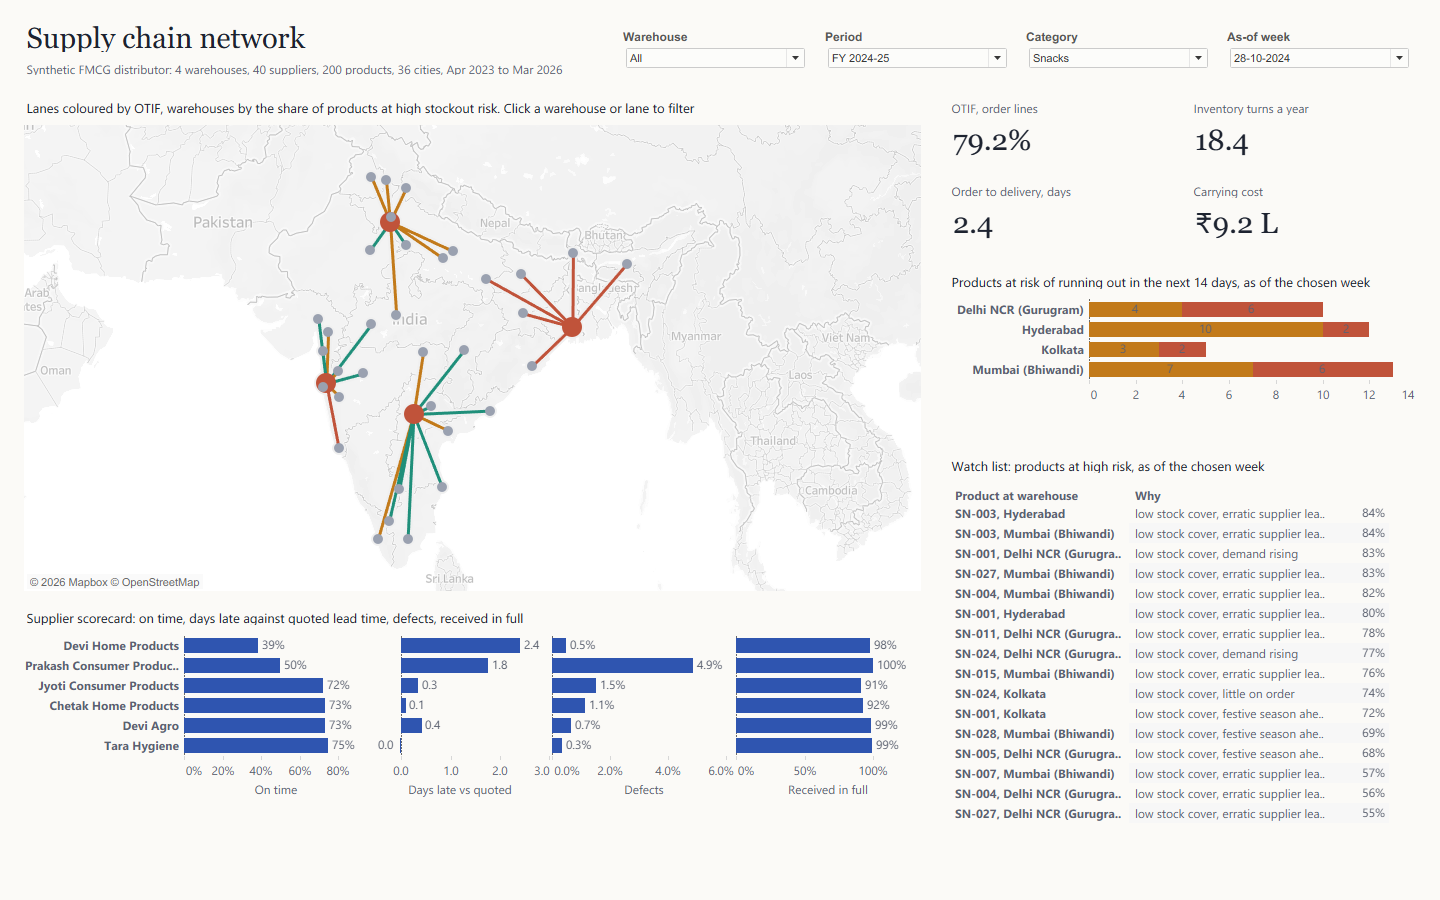

The dashboard page shown, as its layout file describes it:
{"tool":"tableau","page":{"name":"Network","canvas":[1440,900],"ordinal":0},"visuals":[{"type":"text","box":[24,14,560,36]},{"type":"parameter","param":"[Parameters].[Parameter 1]","box":[620,20,192,56]},{"type":"parameter","param":"[Parameters].[Parameter 2]","box":[820,20,192,56]},{"type":"parameter","param":"[Parameters].[Parameter 3]","box":[1020,20,192,56]},{"type":"parameter","param":"[Parameters].[Parameter 4]","box":[1220,20,192,56]},{"type":"text","box":[24,52,560,22]},{"type":"text","box":[24,92,900,22]},{"type":"text","box":[944,92,232,22]},{"type":"text","box":[1184,92,232,22]},{"type":"worksheet","title":"KPI OTIF","mark":"Text","box":[944,114,232,54]},{"type":"worksheet","title":"KPI turnover","mark":"Text","box":[1184,114,232,54]},{"type":"worksheet","title":"Map","mark":"Automatic","rows":["lat","lat"],"cols":["lon"],"box":[24,116,900,480]},{"type":"text","box":[944,176,232,22]},{"type":"text","box":[1184,176,232,22]},{"type":"worksheet","title":"KPI lead time","mark":"Text","box":[944,198,232,54]},{"type":"worksheet","title":"KPI carrying cost","mark":"Text","box":[1184,198,232,54]},{"type":"text","box":[944,268,472,22]},{"type":"worksheet","title":"Stockout gauge","mark":"Bar","rows":["dc_city"],"cols":["Calc_Products"],"box":[944,292,472,150]},{"type":"text","box":[944,454,472,22]},{"type":"worksheet","title":"Watch list","mark":"Text","rows":["Calc_Item","reasons"],"box":[944,478,472,406]},{"type":"text","box":[24,608,900,22]},{"type":"worksheet","title":"Supplier scorecard","mark":"Bar","rows":["supplier"],"cols":["Calc_SupOnTime","Calc_SupLate","Calc_SupDefect","Calc_SupFill"],"box":[24,632,900,252]}]}

Visuals, with their boxes in screenshot pixels (x1, y1, x2, y2), scaled from the page's 1440x900 canvas onto the 1440x900 screenshot:
text: <bbox>24, 14, 584, 50</bbox>
parameter: <bbox>620, 20, 812, 76</bbox>
parameter: <bbox>820, 20, 1012, 76</bbox>
parameter: <bbox>1020, 20, 1212, 76</bbox>
parameter: <bbox>1220, 20, 1412, 76</bbox>
text: <bbox>24, 52, 584, 74</bbox>
text: <bbox>24, 92, 924, 114</bbox>
text: <bbox>944, 92, 1176, 114</bbox>
text: <bbox>1184, 92, 1416, 114</bbox>
"KPI OTIF" worksheet (Text marks): <bbox>944, 114, 1176, 168</bbox>
"KPI turnover" worksheet (Text marks): <bbox>1184, 114, 1416, 168</bbox>
"Map" worksheet: <bbox>24, 116, 924, 596</bbox>
text: <bbox>944, 176, 1176, 198</bbox>
text: <bbox>1184, 176, 1416, 198</bbox>
"KPI lead time" worksheet (Text marks): <bbox>944, 198, 1176, 252</bbox>
"KPI carrying cost" worksheet (Text marks): <bbox>1184, 198, 1416, 252</bbox>
text: <bbox>944, 268, 1416, 290</bbox>
"Stockout gauge" worksheet (Bar marks): <bbox>944, 292, 1416, 442</bbox>
text: <bbox>944, 454, 1416, 476</bbox>
"Watch list" worksheet (Text marks): <bbox>944, 478, 1416, 884</bbox>
text: <bbox>24, 608, 924, 630</bbox>
"Supplier scorecard" worksheet (Bar marks): <bbox>24, 632, 924, 884</bbox>
